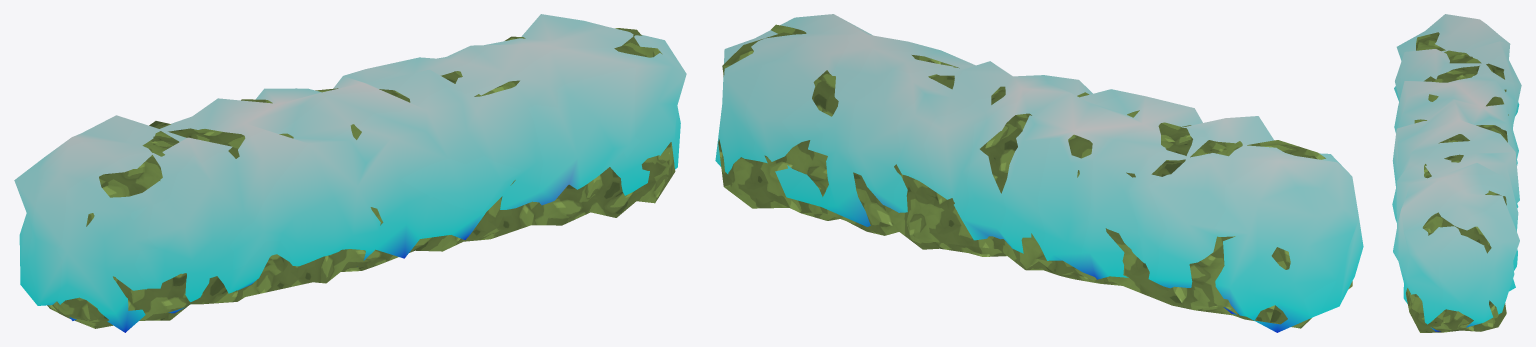
File: SM_Env_Hedge_02.fbx
The picture shows the model from 3 angles, left to right: view 1: azimuth 30°, elevation 25°; view 2: azimuth 150°, elevation 25°; view 3: azimuth 270°, elevation 25°; orthographic projection. The views are drawn at different scales.
Visible parts, largest first — view 1: SM_Env_Hedge_02_LOD0; view 2: SM_Env_Hedge_02_LOD0; view 3: SM_Env_Hedge_02_LOD0.
Part boxes in pixels (x1,y1,x2,y2): SM_Env_Hedge_02_LOD0: [14, 14, 686, 332]; SM_Env_Hedge_02_LOD0: [715, 14, 1363, 332]; SM_Env_Hedge_02_LOD0: [1392, 14, 1521, 332].
Size of what is drawn, in the model's own units: 285 by 73.84 by 68.83.
